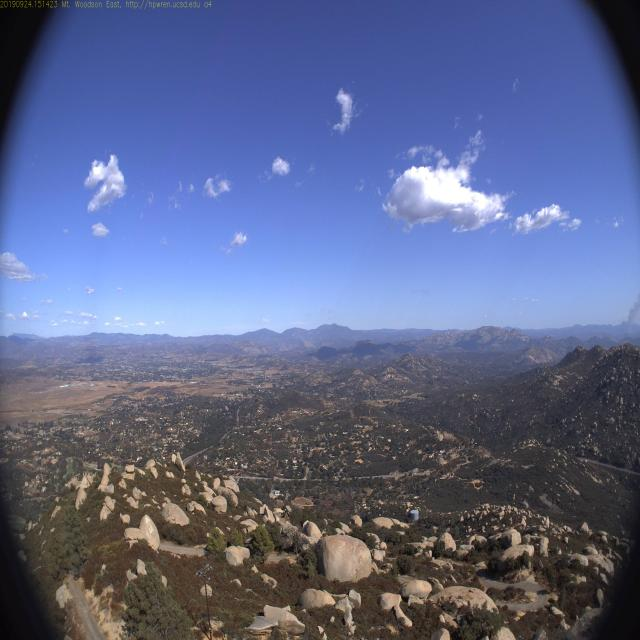smoke: (622, 302, 639, 334)
